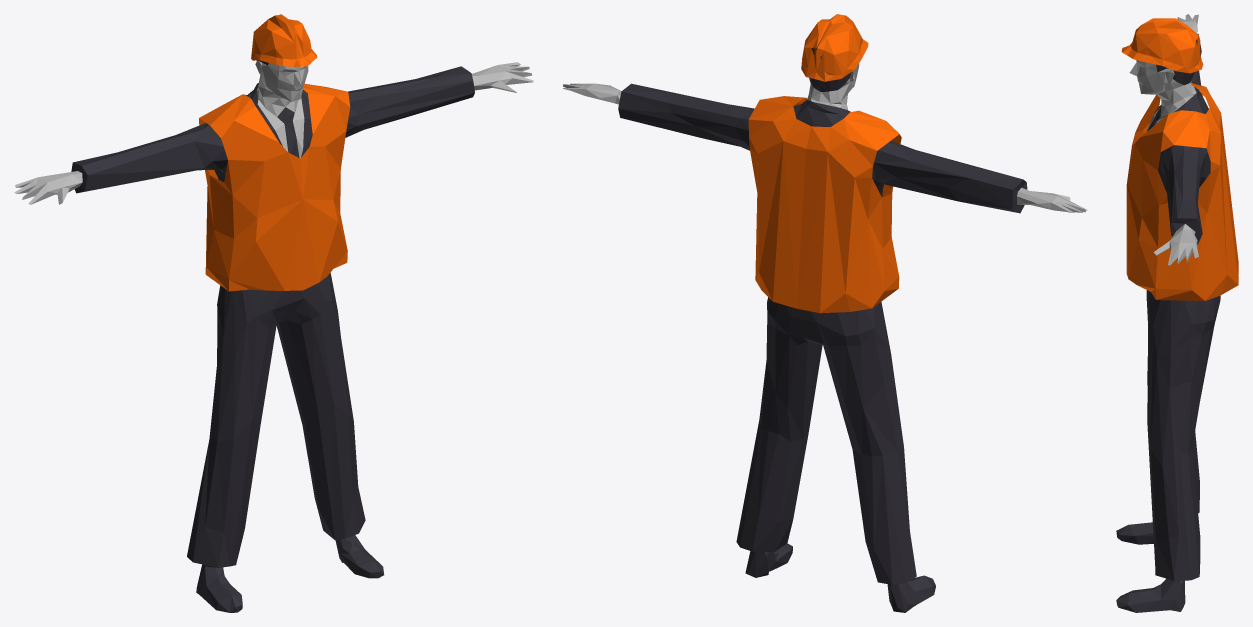
Rendered from Engineer.fbx.
The picture shows the model from 3 angles, left to right: view 1: azimuth 30°, elevation 25°; view 2: azimuth 150°, elevation 25°; view 3: azimuth 270°, elevation 25°; orthographic projection. The views are drawn at different scales.
Parts seen in each view (by area): view 1: Body, Jacket, Helmet; view 2: Body, Jacket, Helmet; view 3: Body, Jacket, Helmet.
Part boxes in pixels (x1=…): Body: x1=14, y1=60, x2=533, y2=612; Jacket: x1=199, y1=83, x2=350, y2=291; Helmet: x1=251, y1=14, x2=317, y2=66; Body: x1=563, y1=25, x2=1087, y2=612; Jacket: x1=748, y1=96, x2=901, y2=313; Helmet: x1=801, y1=14, x2=868, y2=81; Body: x1=1116, y1=14, x2=1220, y2=612; Jacket: x1=1126, y1=83, x2=1238, y2=300; Helmet: x1=1121, y1=18, x2=1203, y2=73.
Bounding box in the file's own units: 171 × 179 × 35.66.
